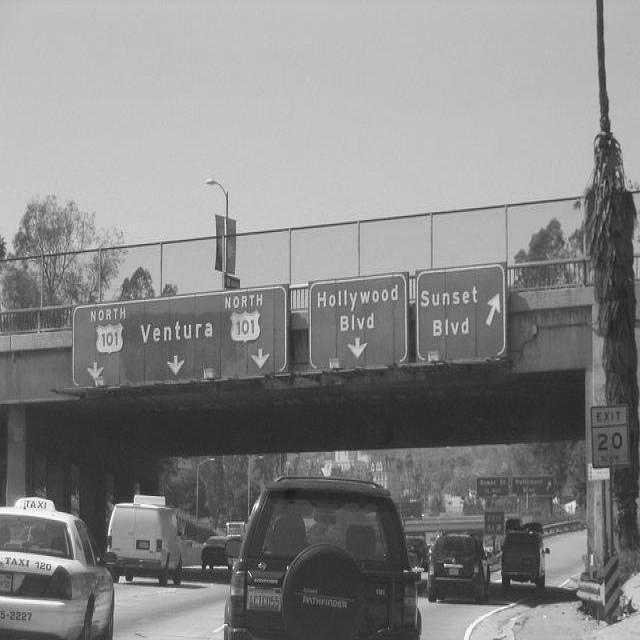vehicle: (225, 482, 420, 640), (1, 493, 119, 629), (106, 501, 185, 581), (426, 534, 490, 607), (502, 529, 552, 589), (201, 536, 233, 571), (406, 536, 432, 573), (226, 522, 246, 543)
